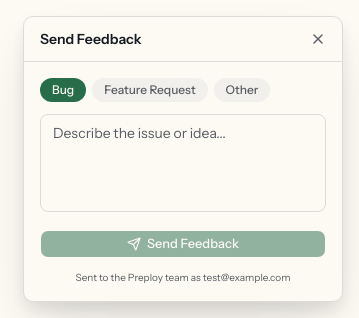
it: FeedbackDialog › shows success message after successful submission
In the text box with test id "feedback-textarea": (183,163) [40,114,326,212], type "This is my feedback message."
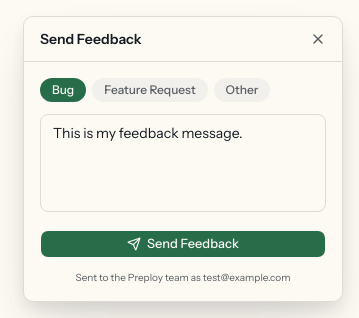
Click the button with test id "feedback-send": (183,244) [40,230,326,258]
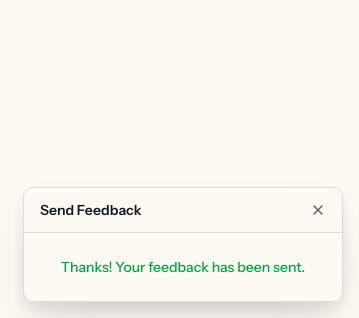
Expected: the element with test id "feedback-success" is shown, [61,258,305,276]
